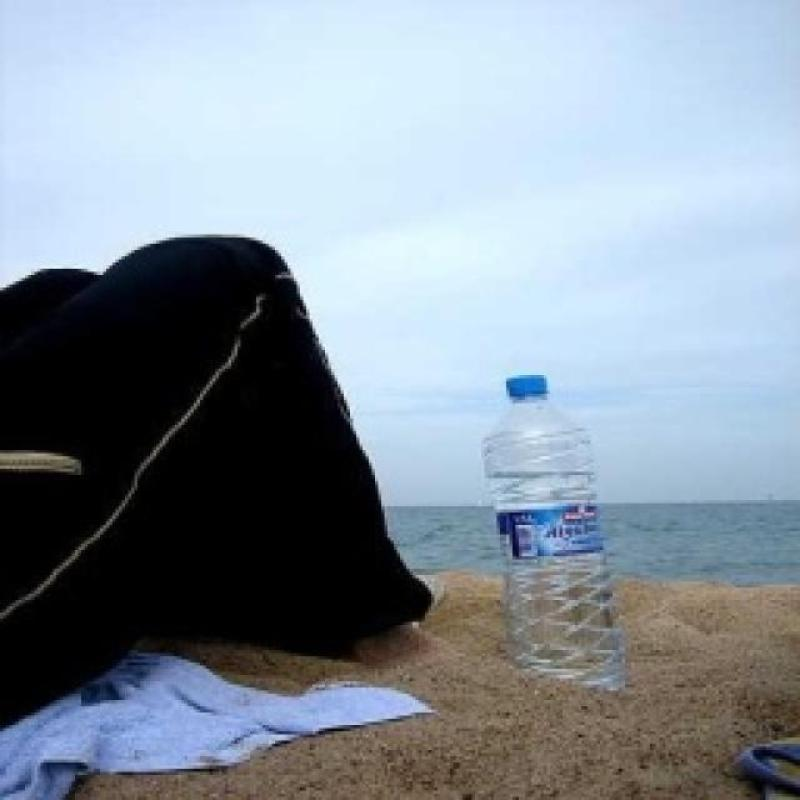botella: (479, 376, 627, 692)
